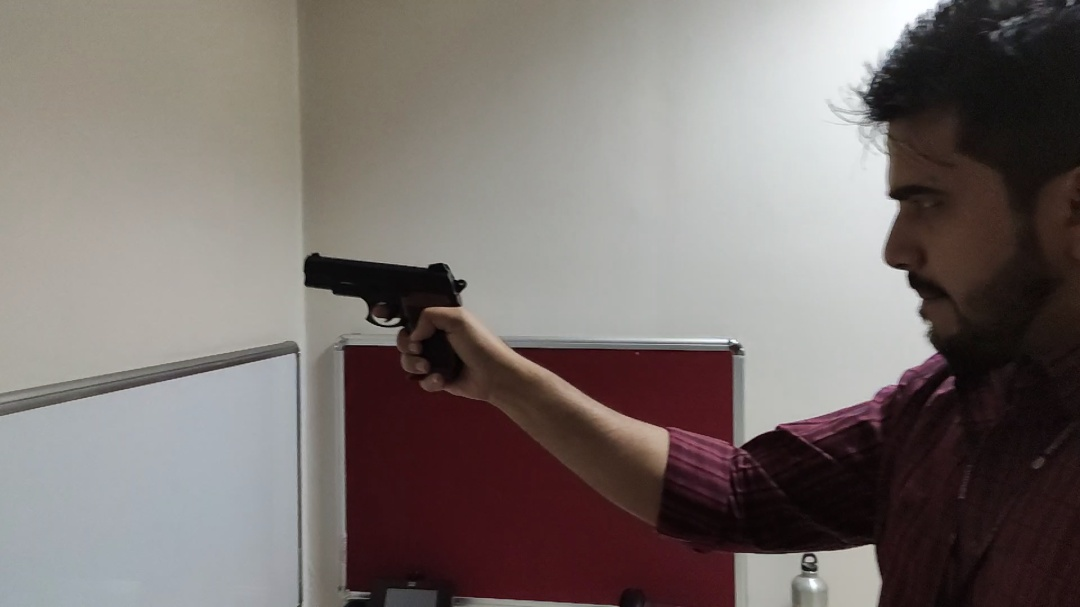gun: (505, 523, 565, 604)
